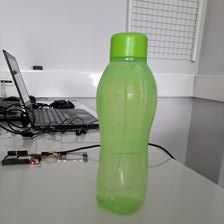bottle: (92, 30, 158, 216)
